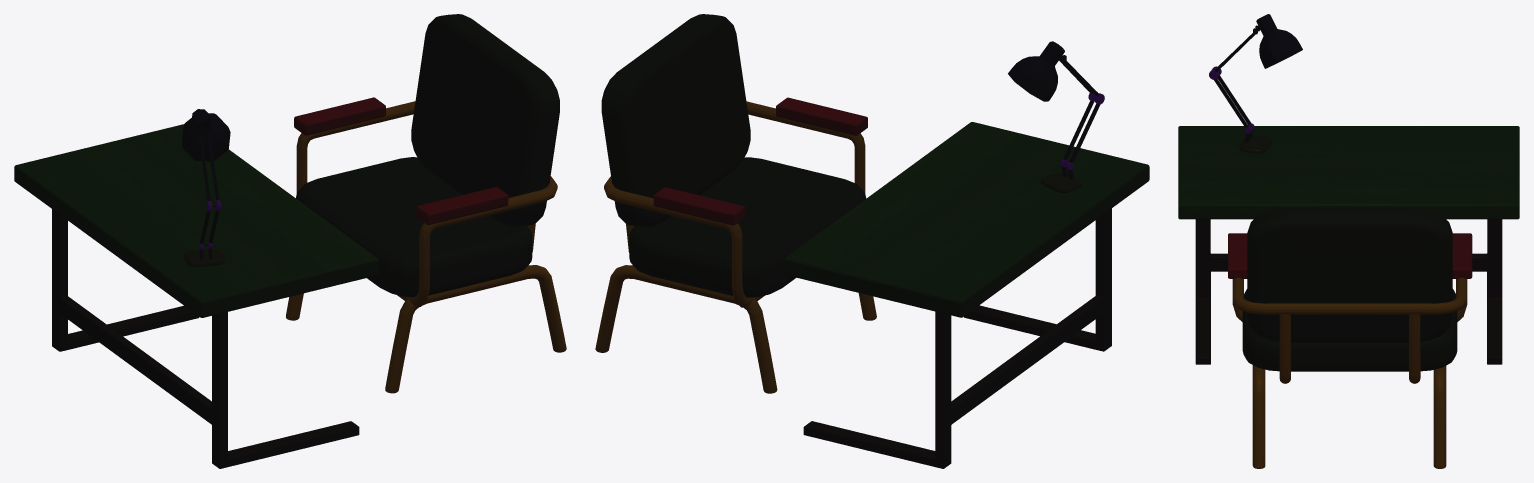
The model's file is desk.glb.
3 renders of one model, left to right at view 1: azimuth 30°, elevation 25°; view 2: azimuth 150°, elevation 25°; view 3: azimuth 270°, elevation 25°, orthographic. The views are drawn at different scales.
Parts seen in each view (by area): view 1: room2_chair, room2_desk, room2_stand_small; view 2: room2_desk, room2_chair, room2_stand_small; view 3: room2_chair, room2_desk, room2_stand_small.
Part boxes in pixels (x1,y1,x2,y2): room2_chair: [286, 14, 566, 393]; room2_desk: [14, 124, 378, 468]; room2_stand_small: [182, 109, 230, 266]; room2_desk: [784, 122, 1149, 468]; room2_chair: [595, 14, 876, 393]; room2_stand_small: [1008, 41, 1104, 192]; room2_chair: [1228, 208, 1472, 468]; room2_desk: [1178, 126, 1519, 364]; room2_stand_small: [1209, 14, 1302, 153].
Size of the model in its own units: 4.84 by 3.69 by 3.85.
3 materials, 3 textured.
